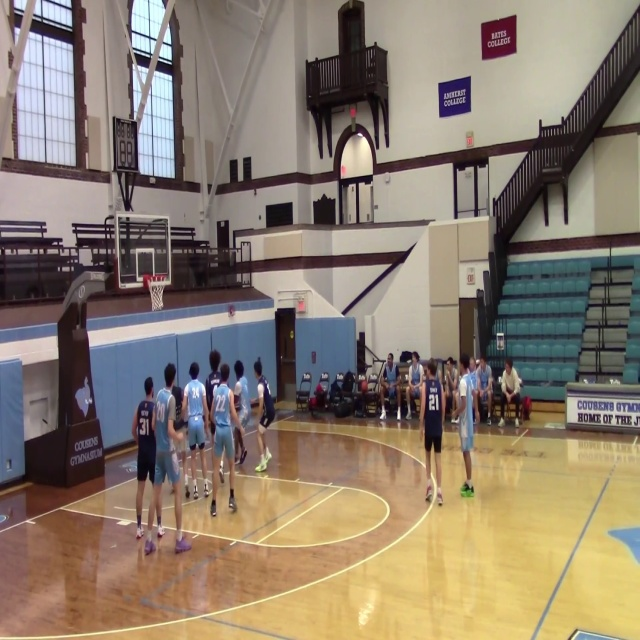Basketball: (409, 386, 420, 399), (228, 305, 235, 316), (349, 107, 356, 117)
